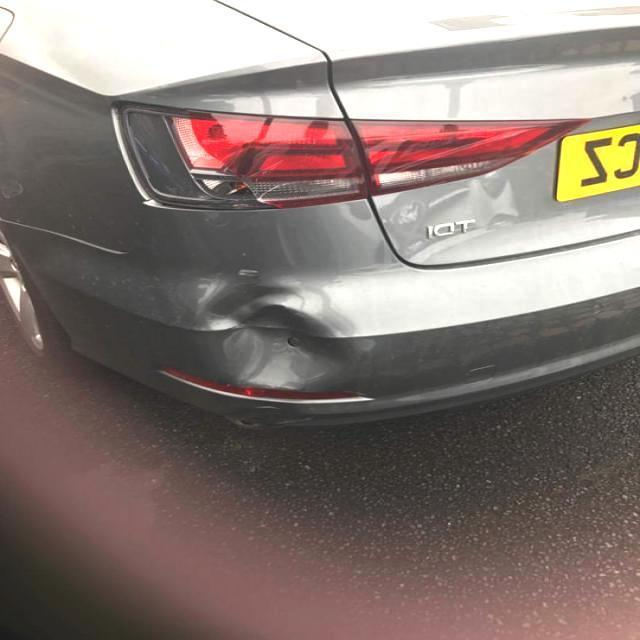minor: (165, 272, 376, 390)
moderate: (115, 105, 366, 212)
